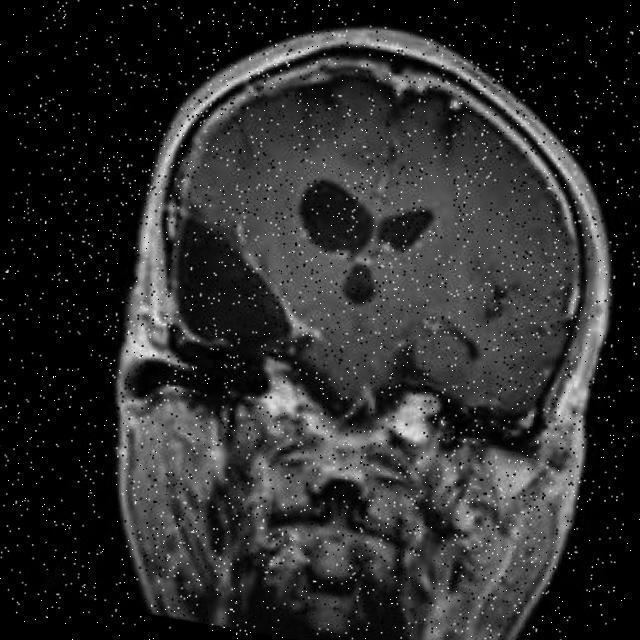EMCI: (85, 227, 319, 405)
